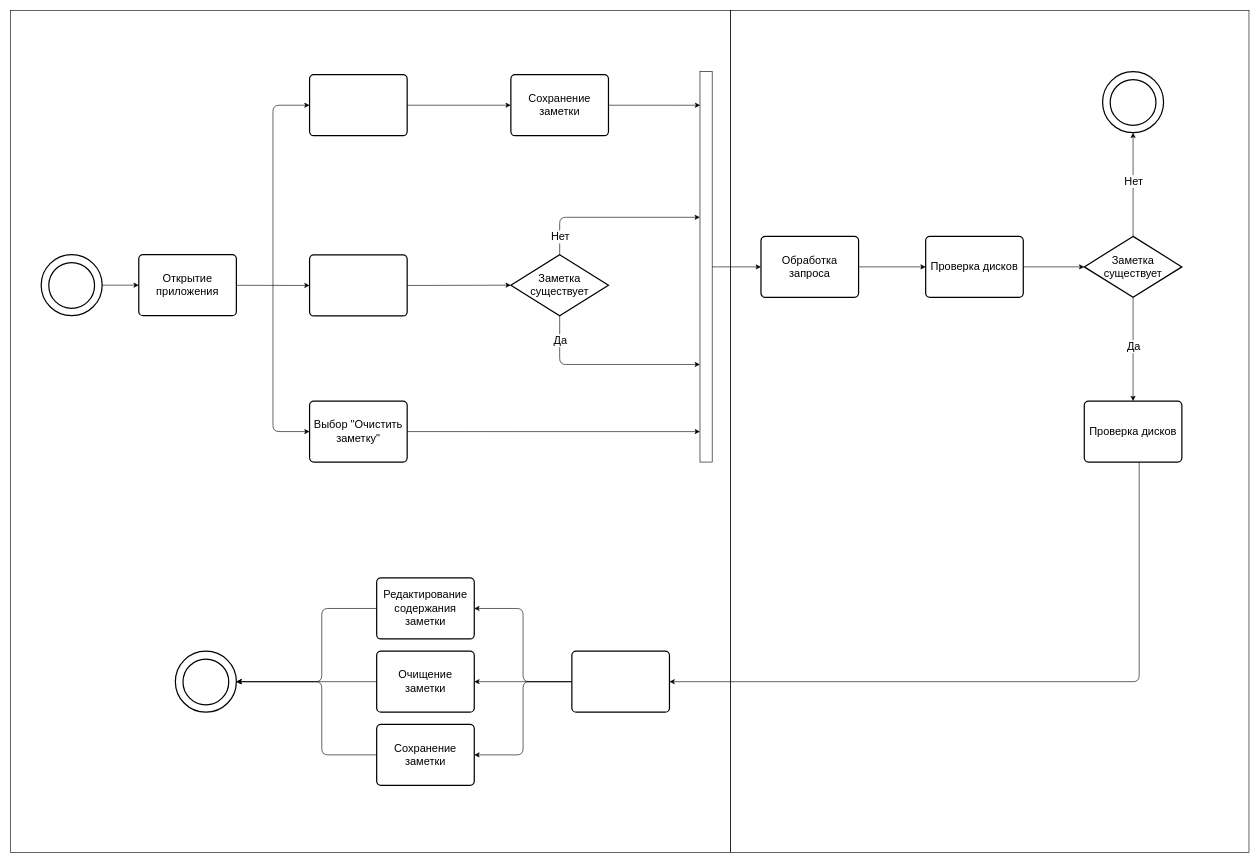
Some shapes in this 1260 by 863 pixel diagram are drawn without their labels. The shapes that lost their labels are listed below. From the top down, each one's box as (x1, y1, x2, y2) in pixels, then its label:
(309, 74, 407, 136): Создание новой заметки
(309, 254, 407, 316): Выбор "Загрузка заметки"
(10, 10, 730, 852): Пользователь
(730, 10, 1249, 852): Система
(571, 650, 670, 712): Просмотр заметки
